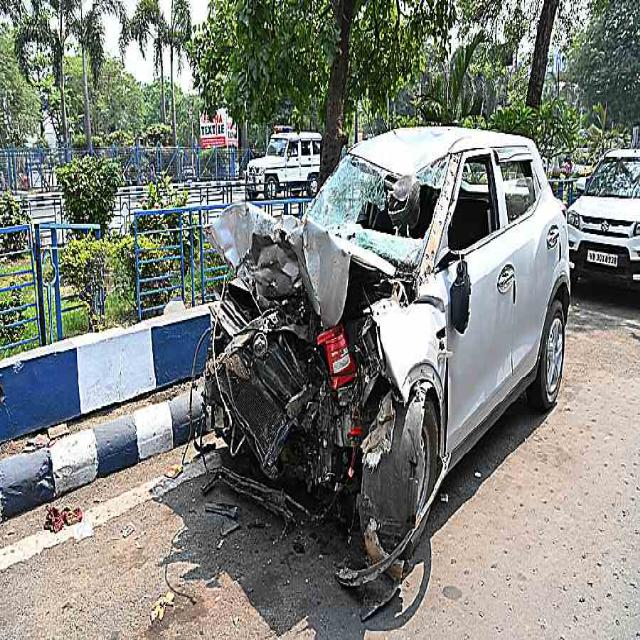accident: (201, 127, 570, 587)
car: (568, 149, 640, 283)
